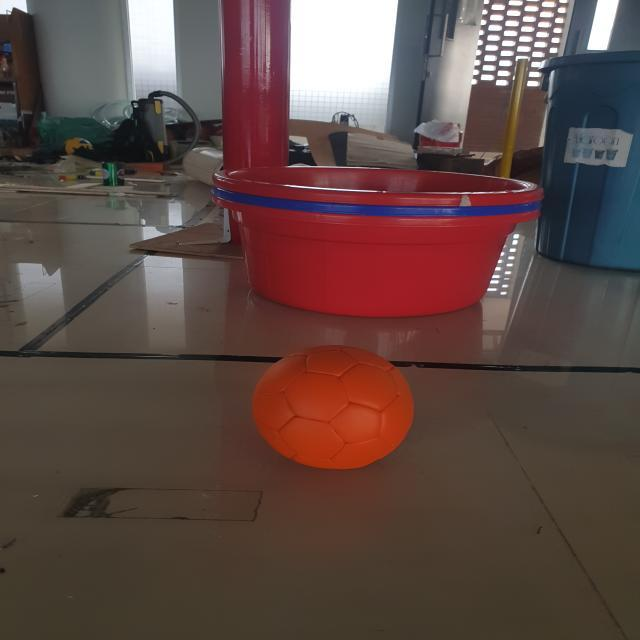bola: (241, 332, 424, 475)
